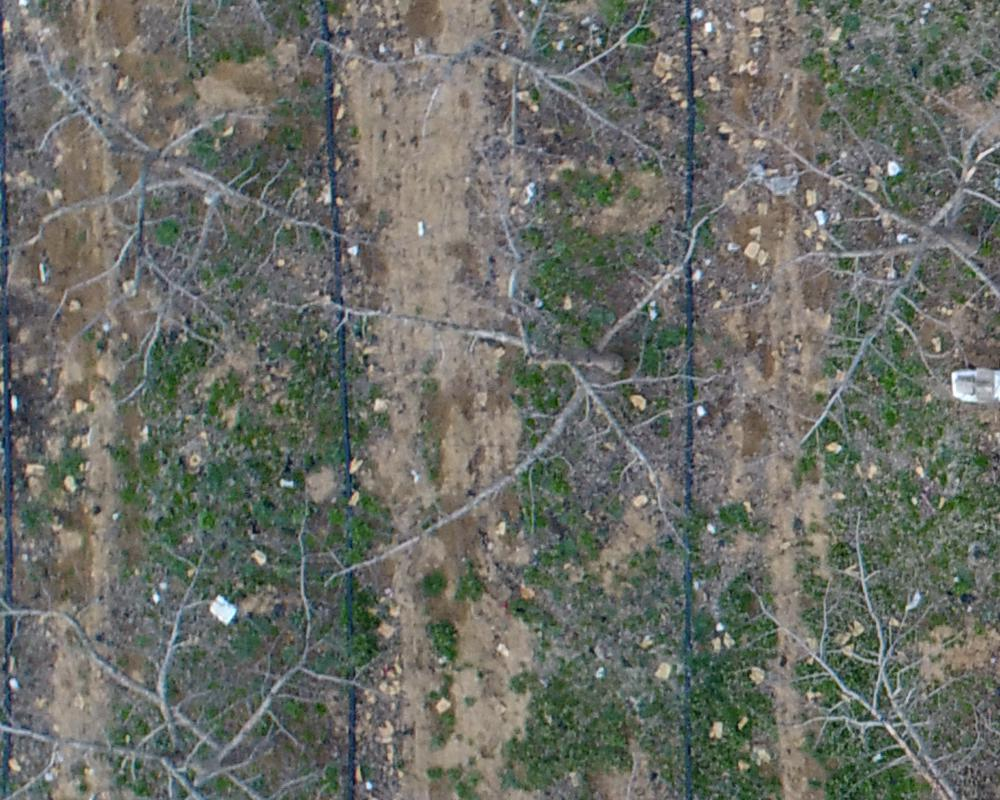apple: (292, 167, 736, 585), (10, 35, 362, 389), (740, 10, 990, 476), (10, 543, 385, 790), (319, 10, 690, 179)
